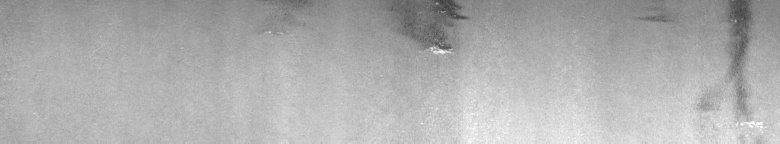hc: (390, 4, 471, 64)
